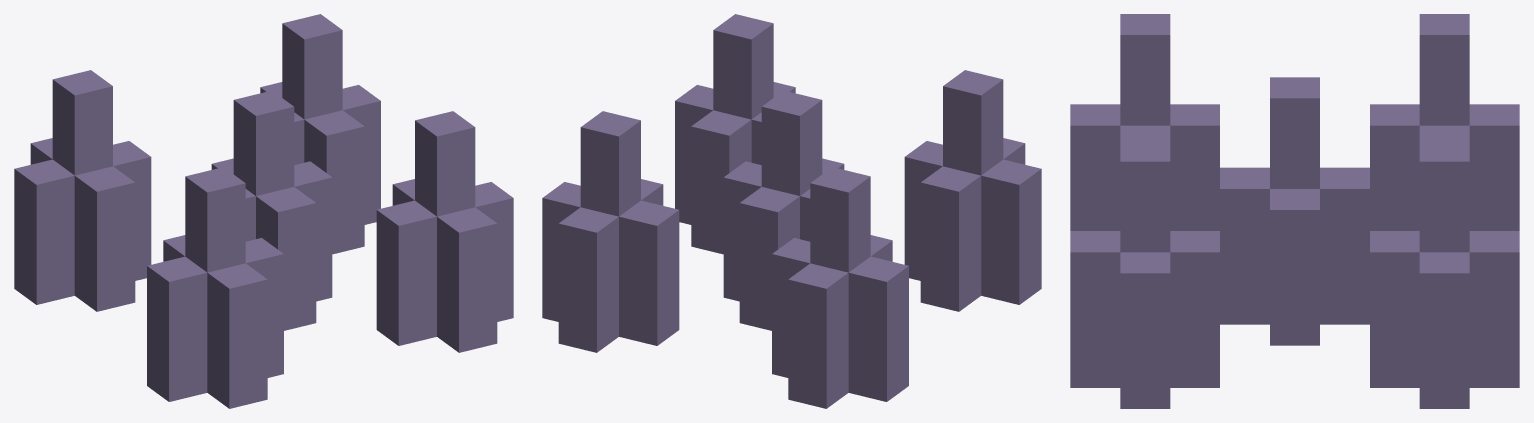
Rendered from spike_a_b.obj.
3 renders of one model, left to right at view 1: azimuth 30°, elevation 25°; view 2: azimuth 150°, elevation 25°; view 3: azimuth 270°, elevation 25°, orthographic. The views are drawn at different scales.
Bounding box in the file's own units: 0.9 × 0.5 × 0.9.
1 material, 1 textured.
